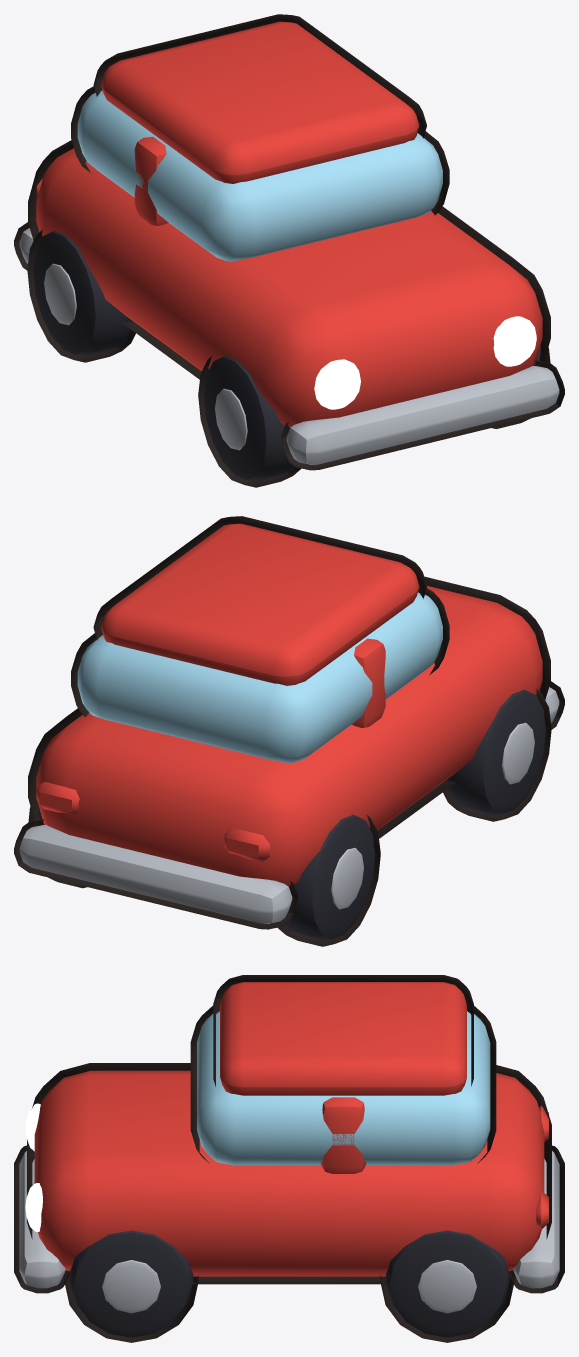
Rendered from Car_Hatch_Red.fbx.
The picture shows the model from 3 angles, top to bottom: view 1: azimuth 30°, elevation 25°; view 2: azimuth 150°, elevation 25°; view 3: azimuth 270°, elevation 25°; orthographic projection. The views are drawn at different scales.
Parts seen in each view (by area): view 1: VH_Car_Hatch_Red_Red, VH_Car_Hatch_Red_Window, VH_Car_Hatch_Red_MetalLight, VH_Car_Hatch_Red_Outline, VH_Car_Hatch_Red_Black, VH_Car_Hatch_Red_LampWarm; view 2: VH_Car_Hatch_Red_Red, VH_Car_Hatch_Red_Window, VH_Car_Hatch_Red_MetalLight, VH_Car_Hatch_Red_Outline, VH_Car_Hatch_Red_Black; view 3: VH_Car_Hatch_Red_Red, VH_Car_Hatch_Red_Window, VH_Car_Hatch_Red_Black, VH_Car_Hatch_Red_Outline, VH_Car_Hatch_Red_MetalLight, VH_Car_Hatch_Red_LampWarm.
Boxes of the visible parts, left/top/right/bottom form: VH_Car_Hatch_Red_Red: left=36, top=21, right=542, bottom=427; VH_Car_Hatch_Red_Window: left=77, top=90, right=442, bottom=261; VH_Car_Hatch_Red_MetalLight: left=19, top=228, right=559, bottom=464; VH_Car_Hatch_Red_Outline: left=14, top=14, right=564, bottom=487; VH_Car_Hatch_Red_Black: left=33, top=230, right=544, bottom=481; VH_Car_Hatch_Red_LampWarm: left=314, top=316, right=536, bottom=409; VH_Car_Hatch_Red_Red: left=36, top=523, right=542, bottom=886; VH_Car_Hatch_Red_Window: left=77, top=592, right=442, bottom=763; VH_Car_Hatch_Red_MetalLight: left=19, top=687, right=559, bottom=923; VH_Car_Hatch_Red_Outline: left=14, top=516, right=564, bottom=946; VH_Car_Hatch_Red_Black: left=34, top=689, right=545, bottom=940; VH_Car_Hatch_Red_Red: left=34, top=982, right=548, bottom=1276; VH_Car_Hatch_Red_Window: left=197, top=1011, right=490, bottom=1165; VH_Car_Hatch_Red_Black: left=69, top=1230, right=509, bottom=1337; VH_Car_Hatch_Red_Outline: left=14, top=975, right=564, bottom=1342; VH_Car_Hatch_Red_MetalLight: left=19, top=1151, right=559, bottom=1313; VH_Car_Hatch_Red_LampWarm: left=25, top=1103, right=42, bottom=1231.
Bounding box in the file's own units: 2.05 × 1.92 × 3.57.
